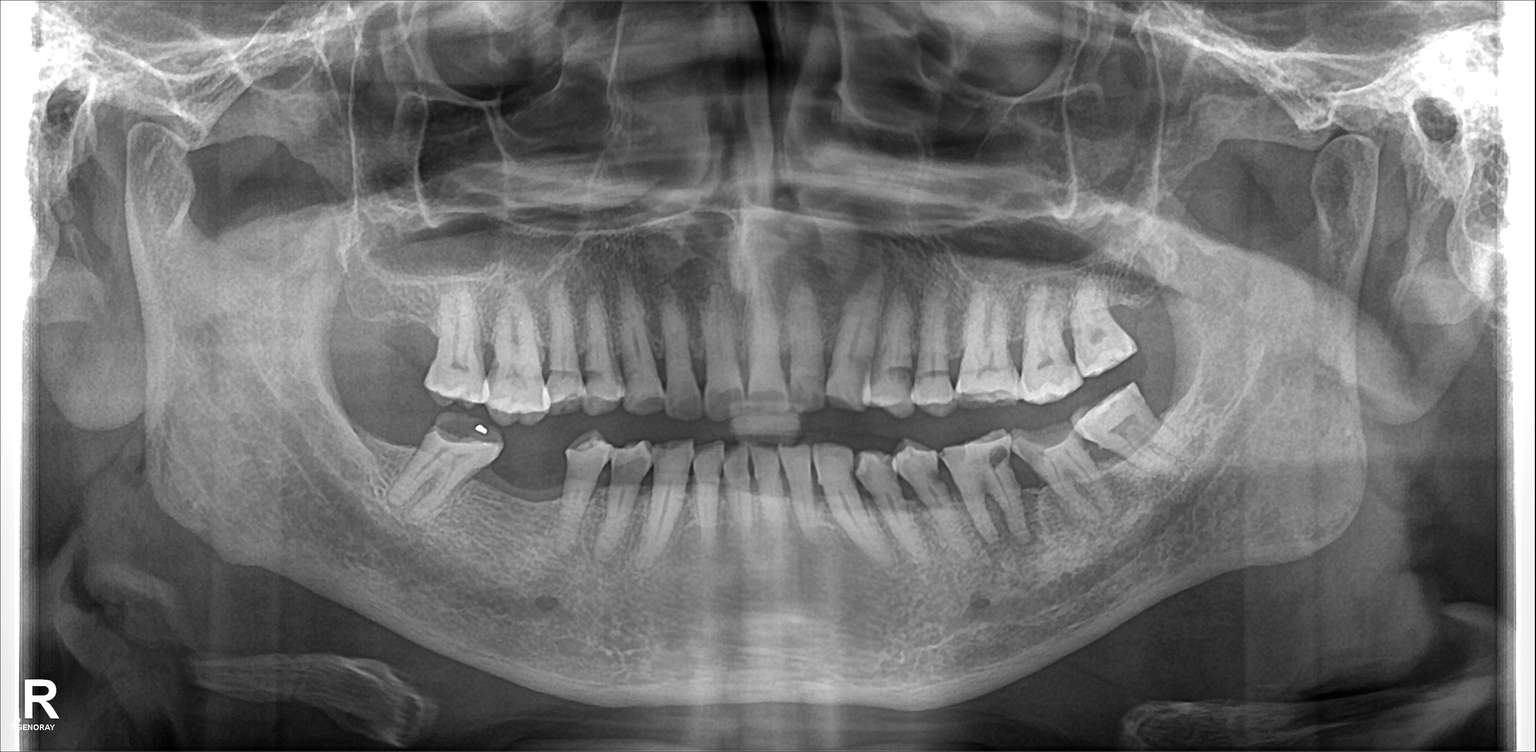Missing Tooth: (339, 283, 380, 398), (350, 415, 407, 495), (387, 292, 429, 392), (490, 456, 523, 562), (525, 452, 551, 560)
